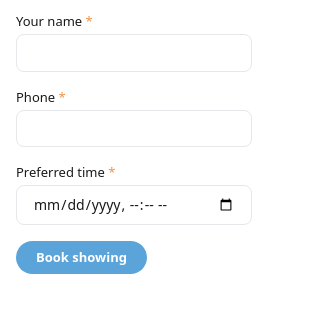
Test case: operation_invoke submit flow › non-2xx JSON error payloads surface honestly, never as success
Type "Ana" into the field labelled "Your name *" at (134,53), box [16,34,252,72]
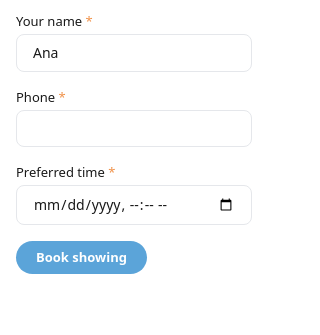
Type "+5511912345678" into the field labelled "Phone *" at (134,128), box [16,110,252,147]
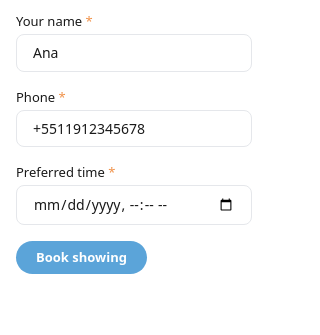
Type "2030-01-01T14:00" into the field labelled "Preferred time *" at (134,205), box [16,185,252,225]
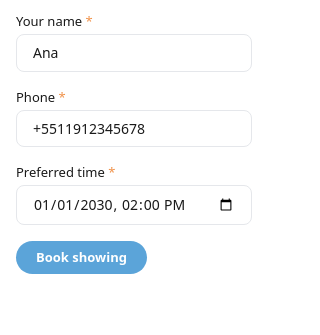
Click the button with class "kw-submit" at (81,257), box [16,241,147,274]
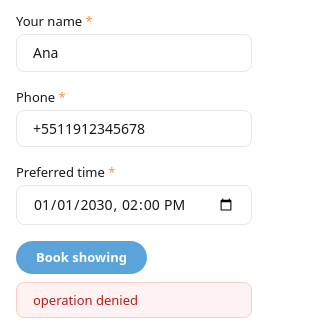
Check: the message with class "kw-form-message" reads "operation denied", box [33,291,138,309]
